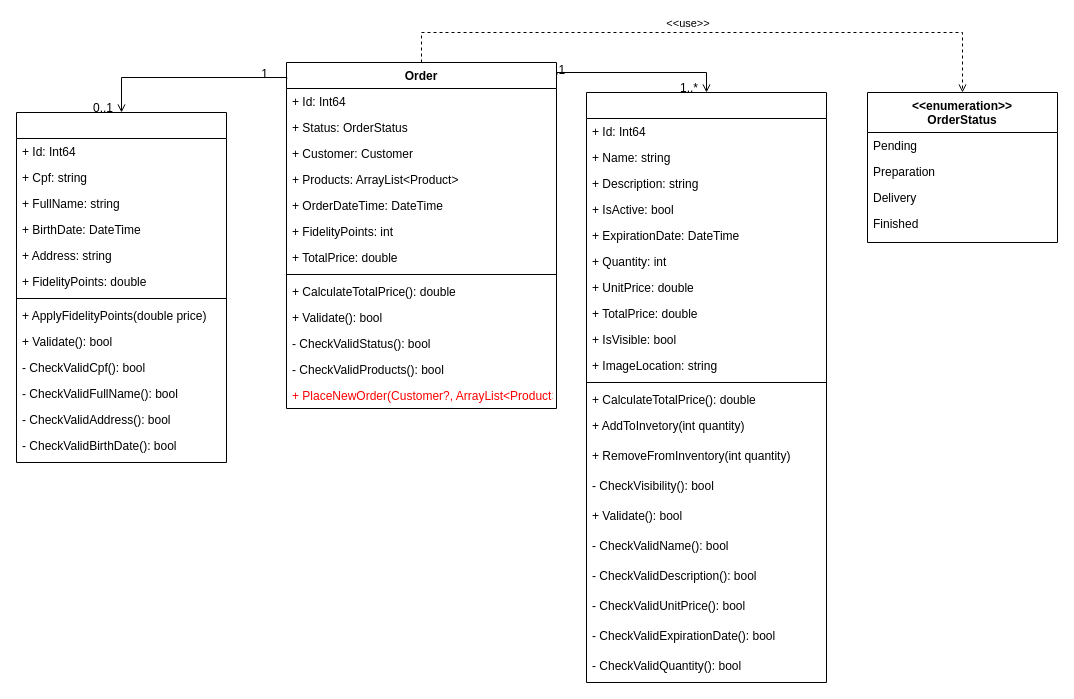
Image size: 1074x699. Some labels were removed from this diagram. Each missing label, with the box of its shape:
Customer: (16, 112, 226, 462)
Product: (586, 92, 826, 682)
